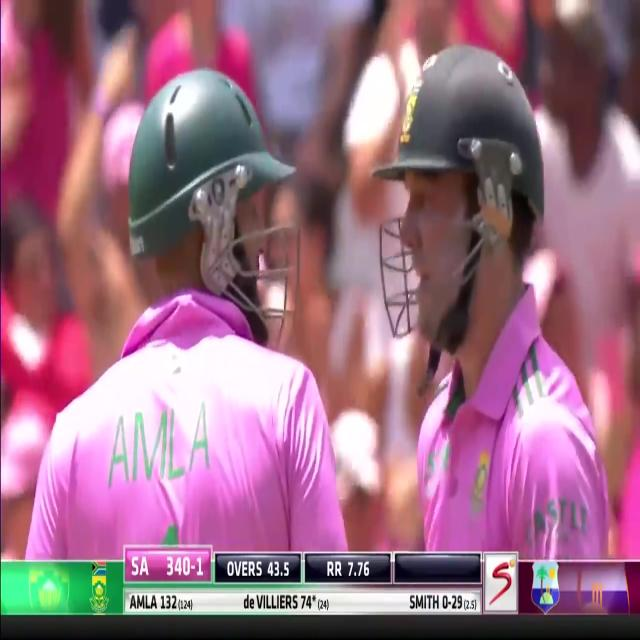Ball: (26, 65, 349, 557), (404, 52, 614, 560)
